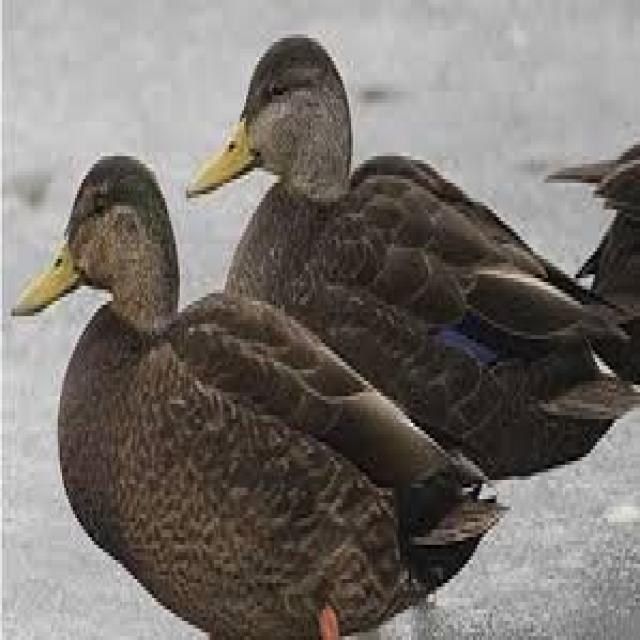Duck: (8, 154, 490, 633), (187, 31, 640, 486)
